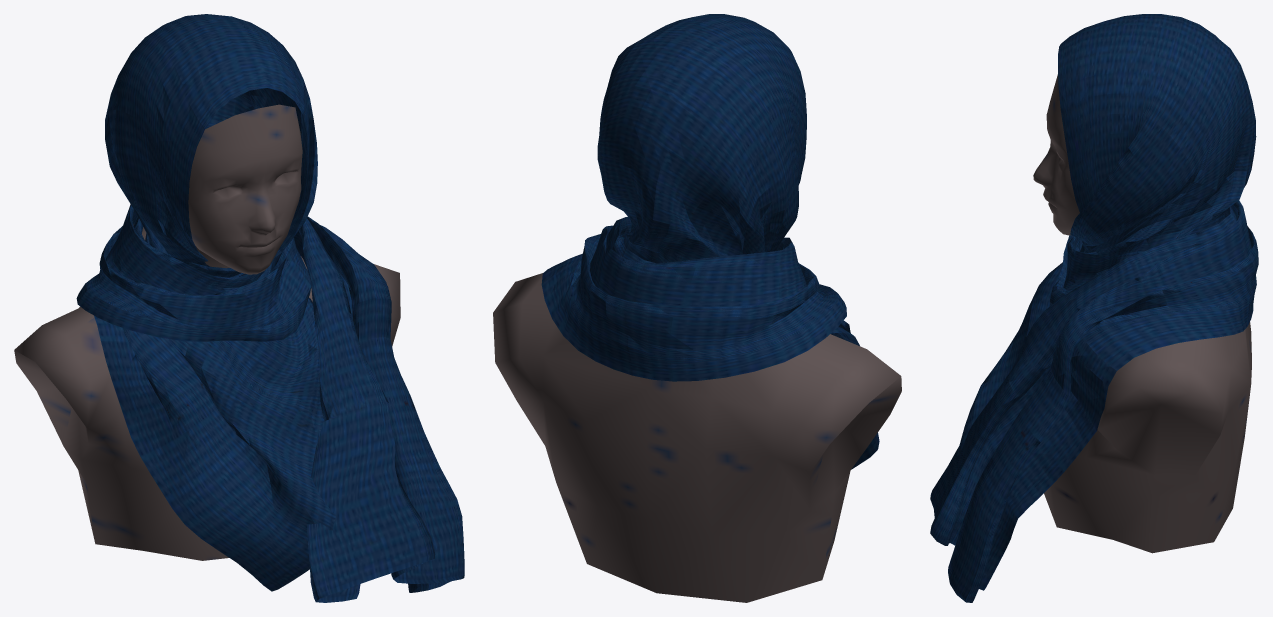
The model's file is hijab-out.obj.
3 views of the same model, side by side, from view 1: azimuth 30°, elevation 25°; view 2: azimuth 150°, elevation 25°; view 3: azimuth 270°, elevation 25° (orthographic). The views are drawn at different scales.
Visible parts, largest first — view 1: Model001_hijab; view 2: Model001_hijab; view 3: Model001_hijab.
Boxes of the visible parts, x1,y1,x2,y2 form: Model001_hijab: (14, 14, 464, 602); Model001_hijab: (493, 14, 901, 602); Model001_hijab: (930, 14, 1258, 602).
Bounding box in the file's own units: 4.35 × 6.07 × 3.51.
1 material, 1 textured.
